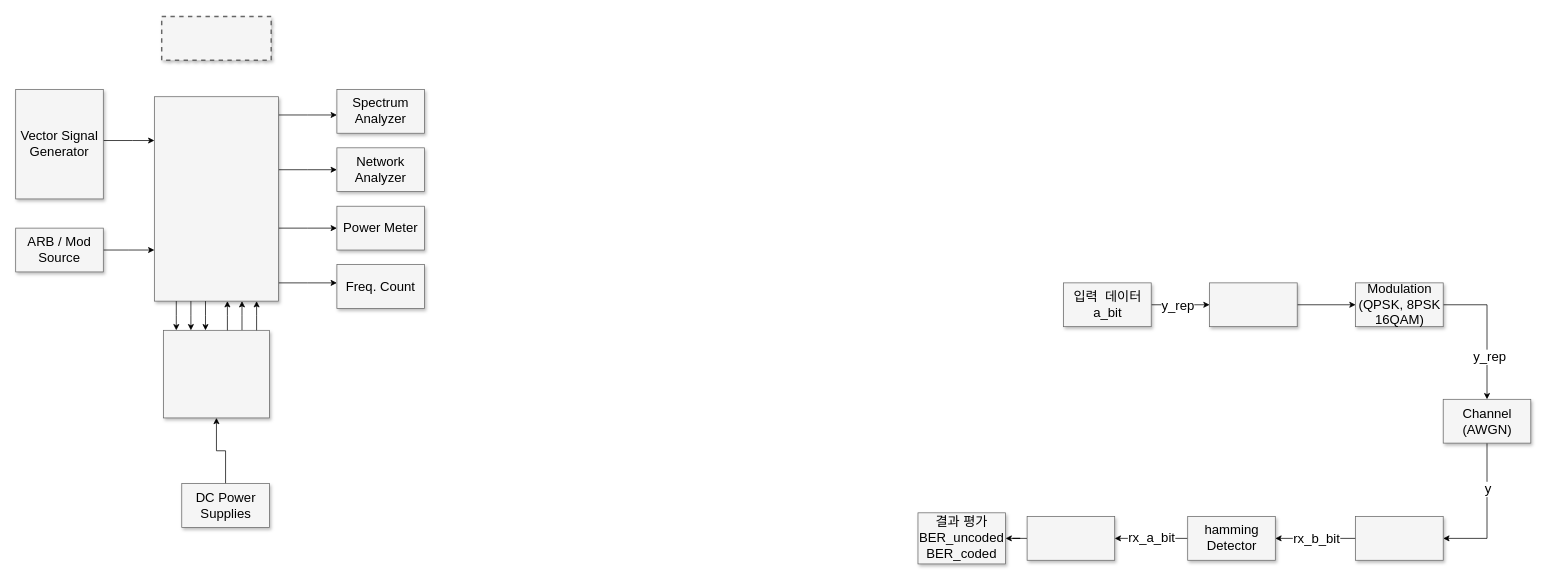
Image size: 1548x582. Some labels were removed from this diagram. Each missing label, with the centre of its shape:
Custom switch Matrix (switches, couplers, mixer, amps, attenu, splitters): the point at 217,199
Demodulator (QPSK, 8PSK 16QAM): the point at 1400,539
DUT: the point at 217,375
Hamming 부호화: the point at 1254,305
Output transducer: the point at 1071,539
Software Control: the point at 217,39
